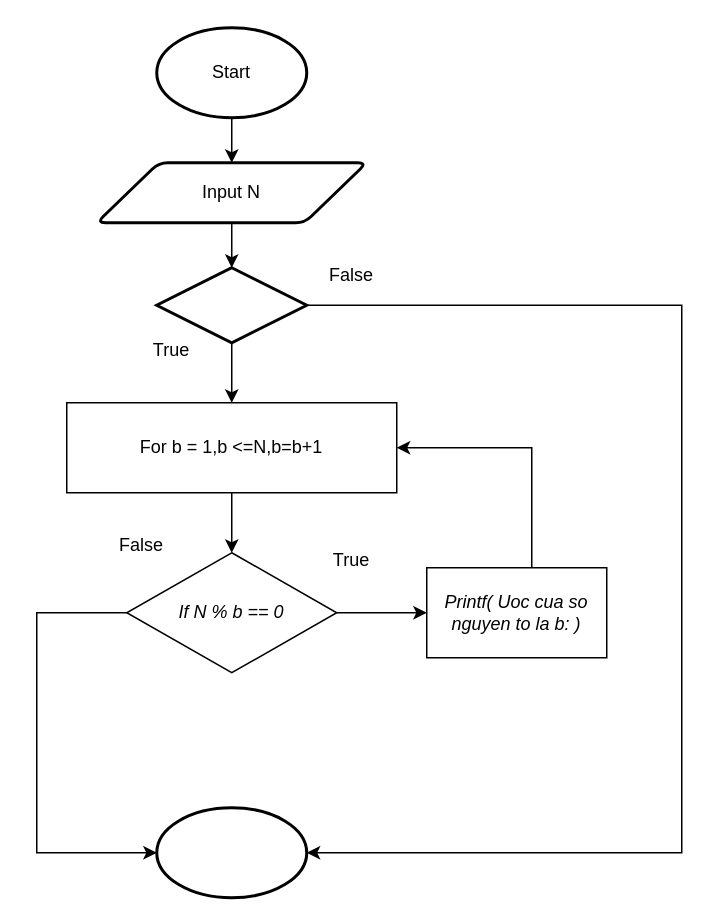
This 720x924 diagram has some shape labels left out. The centre of each missing label's shape, as x and y in pixels:
"End" belongs at (x=231, y=852).
"If N > 0" belongs at (x=231, y=305).
